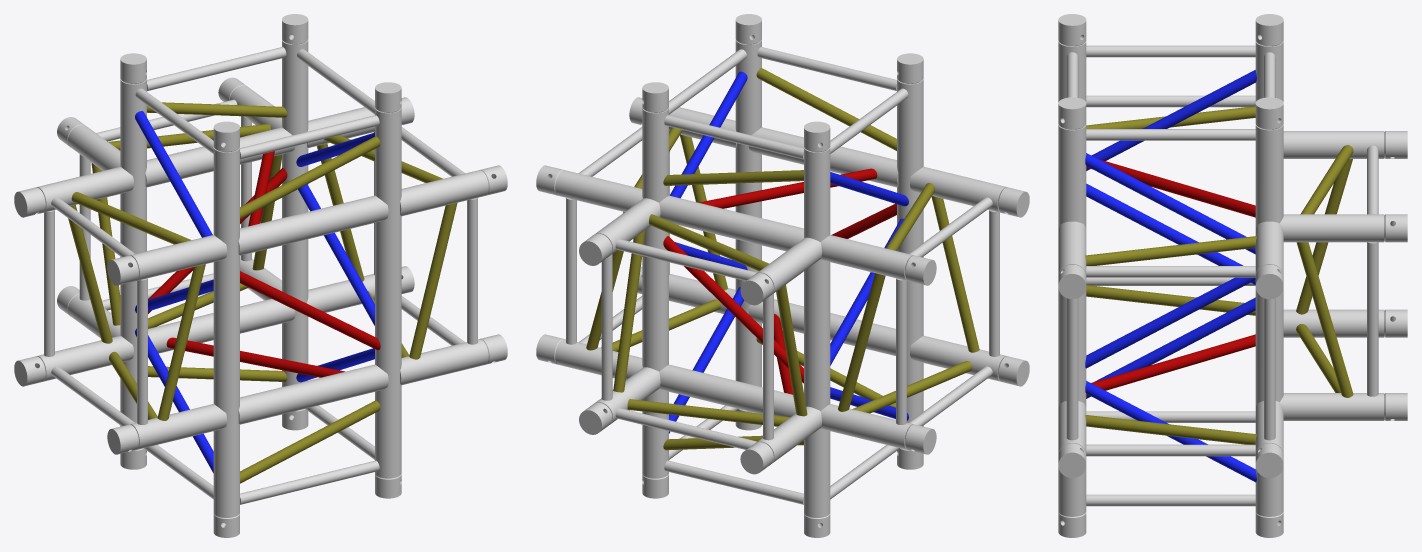
3 views of the same model, side by side, from view 1: azimuth 30°, elevation 25°; view 2: azimuth 150°, elevation 25°; view 3: azimuth 270°, elevation 25° (orthographic). The views are drawn at different scales.
Visible parts, largest first — view 1: 260028532; view 2: 260028532; view 3: 260028532.
Part boxes in pixels (x1,y1,x2,y2): 260028532: (14, 14, 507, 537); 260028532: (536, 14, 1029, 537); 260028532: (1058, 14, 1407, 537).
Size of the model in its own units: 0.813 by 0.813 by 0.6001.
